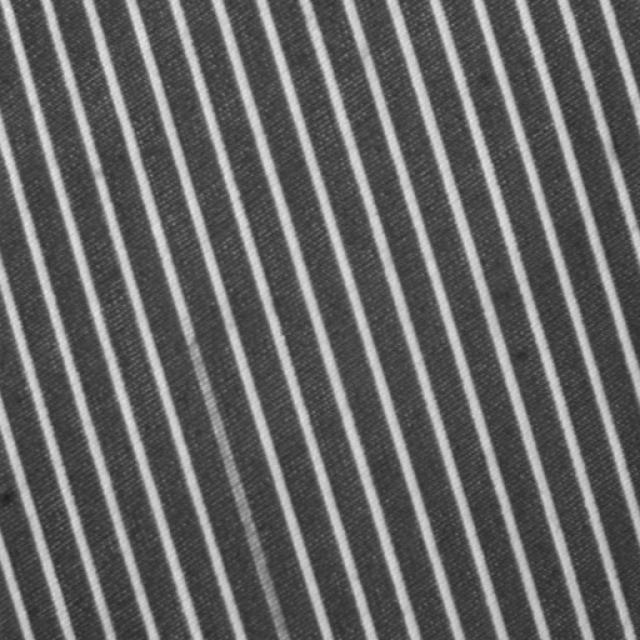Stain-Defect: (186, 339, 290, 639)
